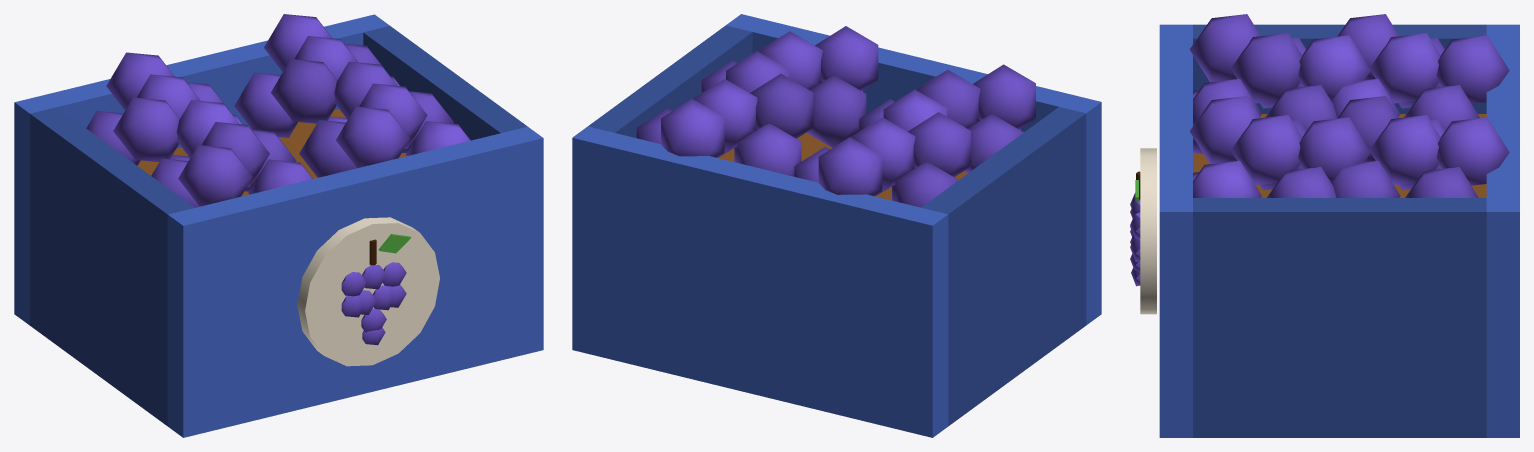
File: fruit_box_grapes.glb
3 views of the same model, side by side, from view 1: azimuth 30°, elevation 25°; view 2: azimuth 150°, elevation 25°; view 3: azimuth 270°, elevation 25° (orthographic). The views are drawn at different scales.
Parts seen in each view (by area): view 1: pv3_fruit_box_grapes; view 2: pv3_fruit_box_grapes; view 3: pv3_fruit_box_grapes.
Boxes of the visible parts, <box> form: pv3_fruit_box_grapes: <box>14,14,543,437</box>; pv3_fruit_box_grapes: <box>572,14,1101,437</box>; pv3_fruit_box_grapes: <box>1130,14,1519,437</box>.
Size of the model in its own units: 0.16 by 0.1058 by 0.1407.
